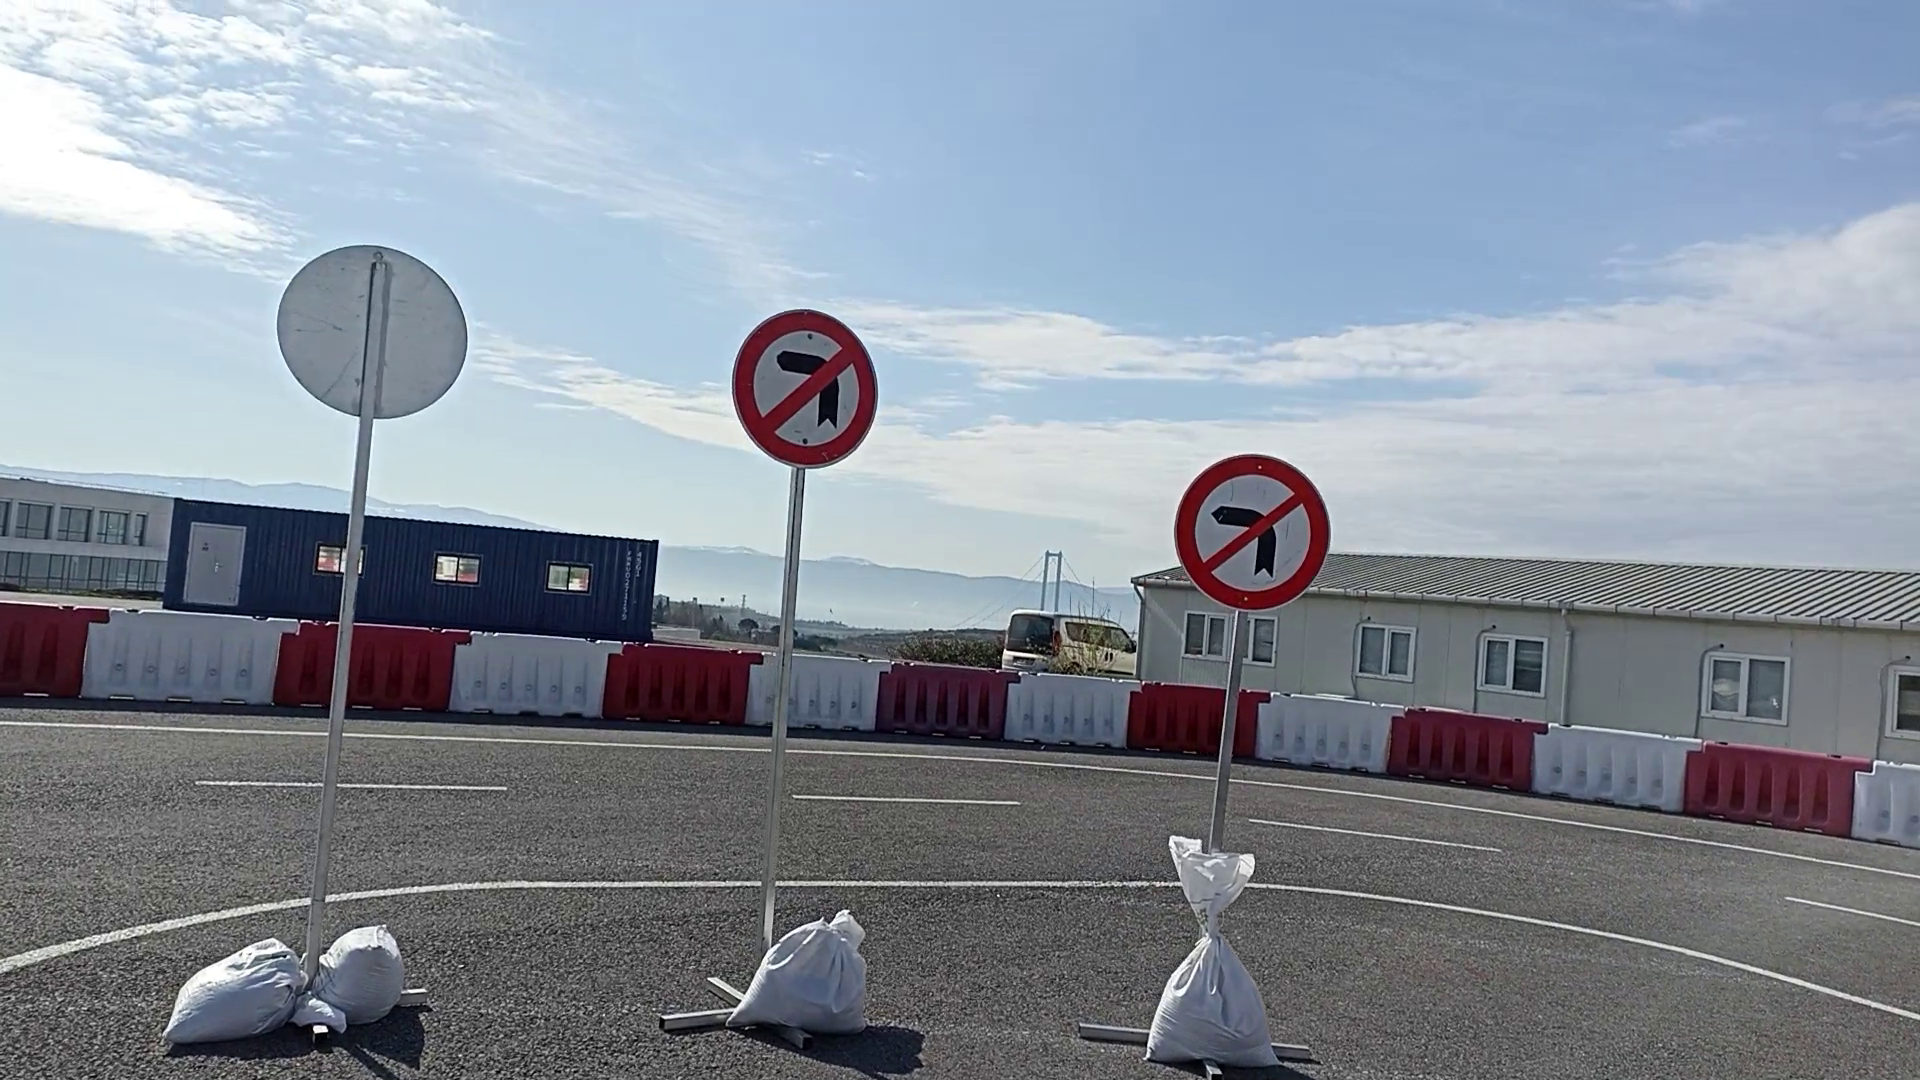noleft: (1168, 452, 1332, 615), (727, 307, 881, 469)
